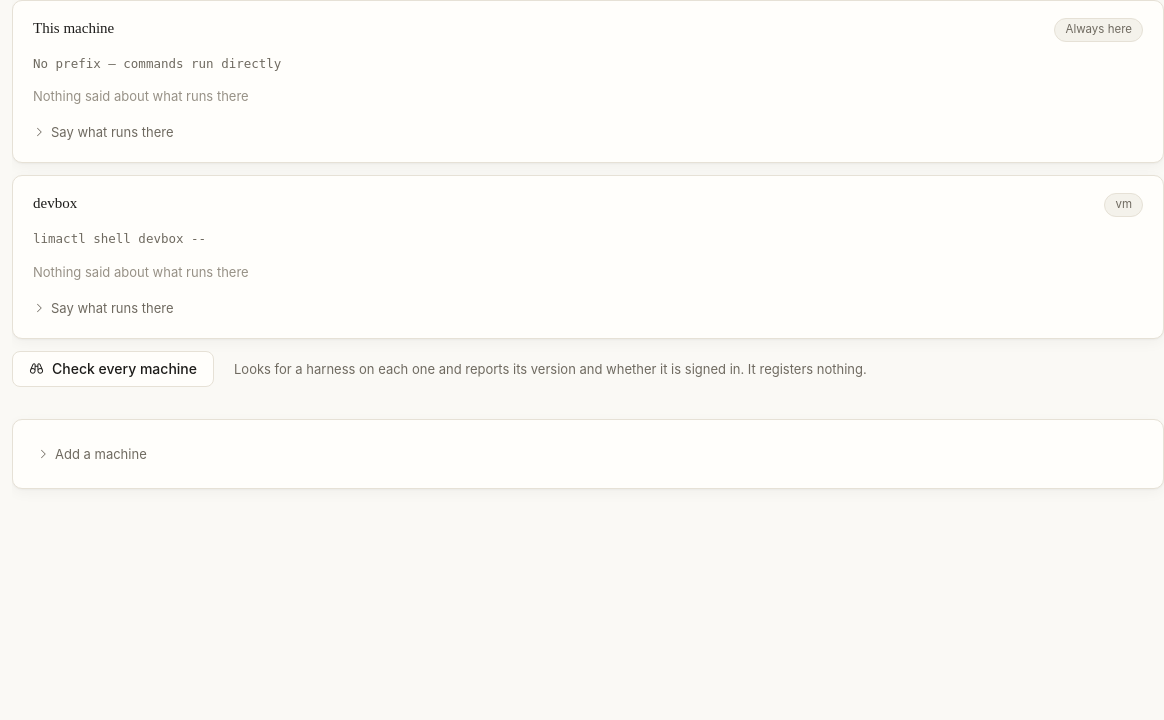
it: MachinesPanel › distinguishes a machine with nothing installed from one that refused
This screenshot has width=1164, height=720.
What coordinates should you click on to do the following:
click the button "Check every machine"
I would click on:
 (113, 369)
Its box is [12,351,214,387].
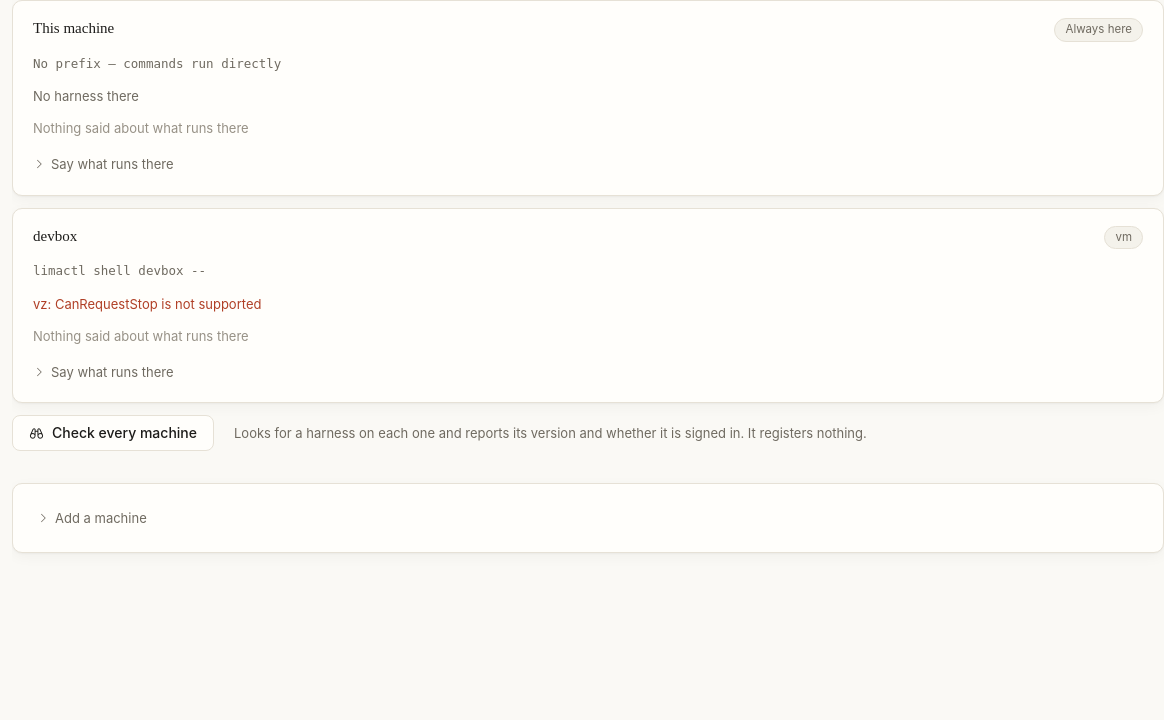
Expected: the text "No harness there" is shown, [33,88,139,104]
Expected: the text "vz: CanRequestStop is not supported" is shown, [33,296,261,312]
